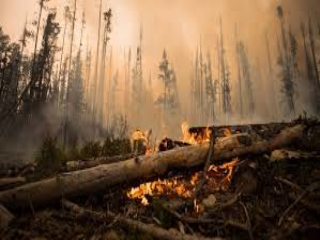fire: (119, 115, 232, 193)
smoke: (25, 92, 82, 156)
